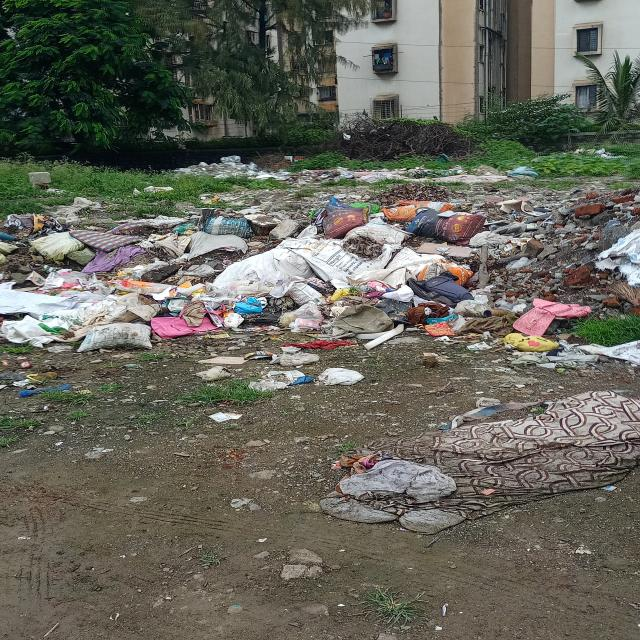garbage: (9, 187, 640, 362), (337, 388, 640, 526), (172, 153, 529, 186)
